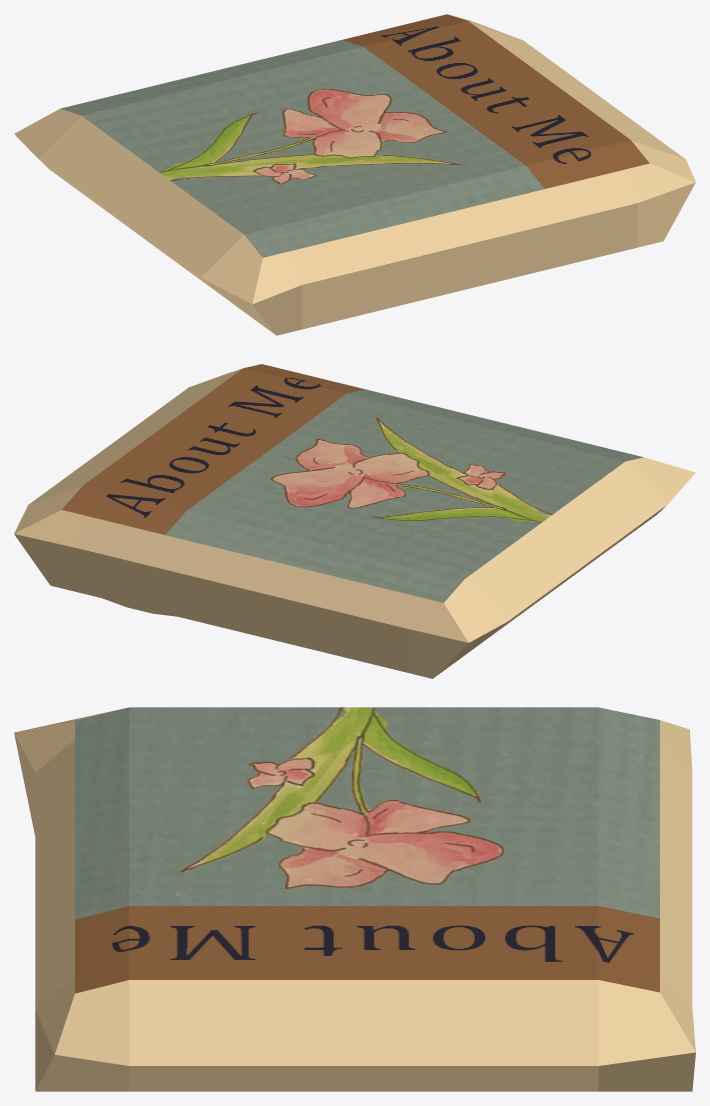
Rendered from packet_1.glb.
The picture shows the model from 3 angles, top to bottom: view 1: azimuth 30°, elevation 25°; view 2: azimuth 150°, elevation 25°; view 3: azimuth 270°, elevation 25°; orthographic projection. The views are drawn at different scales.
Parts seen in each view (by area): view 1: Cube; view 2: Cube; view 3: Cube.
Boxes of the visible parts, x1,y1,x2,y2 form: Cube: (14,14,695,335); Cube: (14,364,695,678); Cube: (14,707,695,1091).
Bounding box in the file's own units: 2.46 × 0.3898 × 2.08.
Materials: 1 (1 with a texture image).
